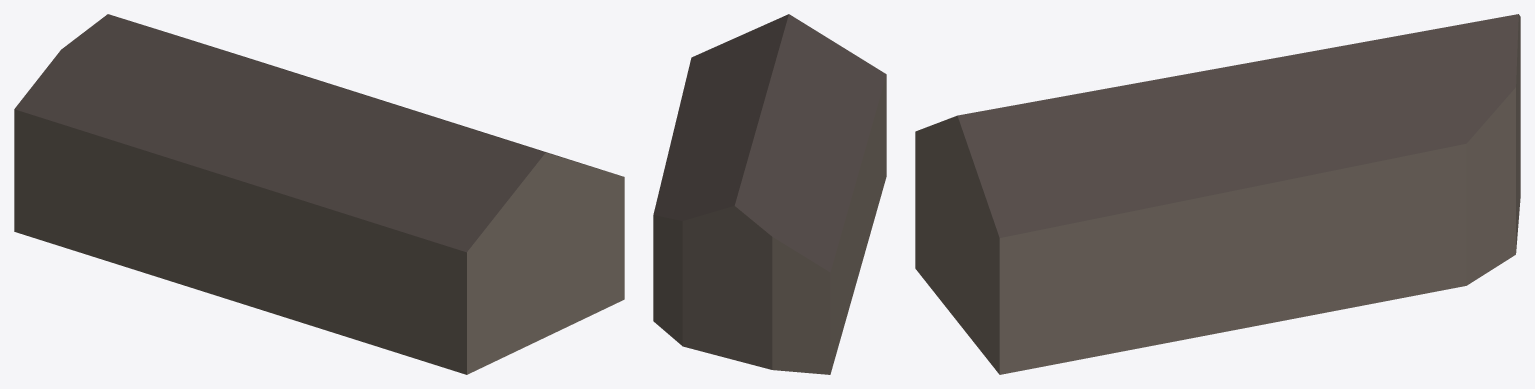
3 renders of one model, left to right at view 1: azimuth 30°, elevation 25°; view 2: azimuth 150°, elevation 25°; view 3: azimuth 270°, elevation 25°, orthographic. The views are drawn at different scales.
Visible parts, largest first — view 1: HP-w1515076984; view 2: HP-w1515076984; view 3: HP-w1515076984.
Boxes of the visible parts, x1,y1,x2,y2 form: HP-w1515076984: [14, 14, 624, 374]; HP-w1515076984: [653, 14, 886, 374]; HP-w1515076984: [915, 14, 1520, 374].
Size of the model in its own units: 19.9 by 9.04 by 24.07.
